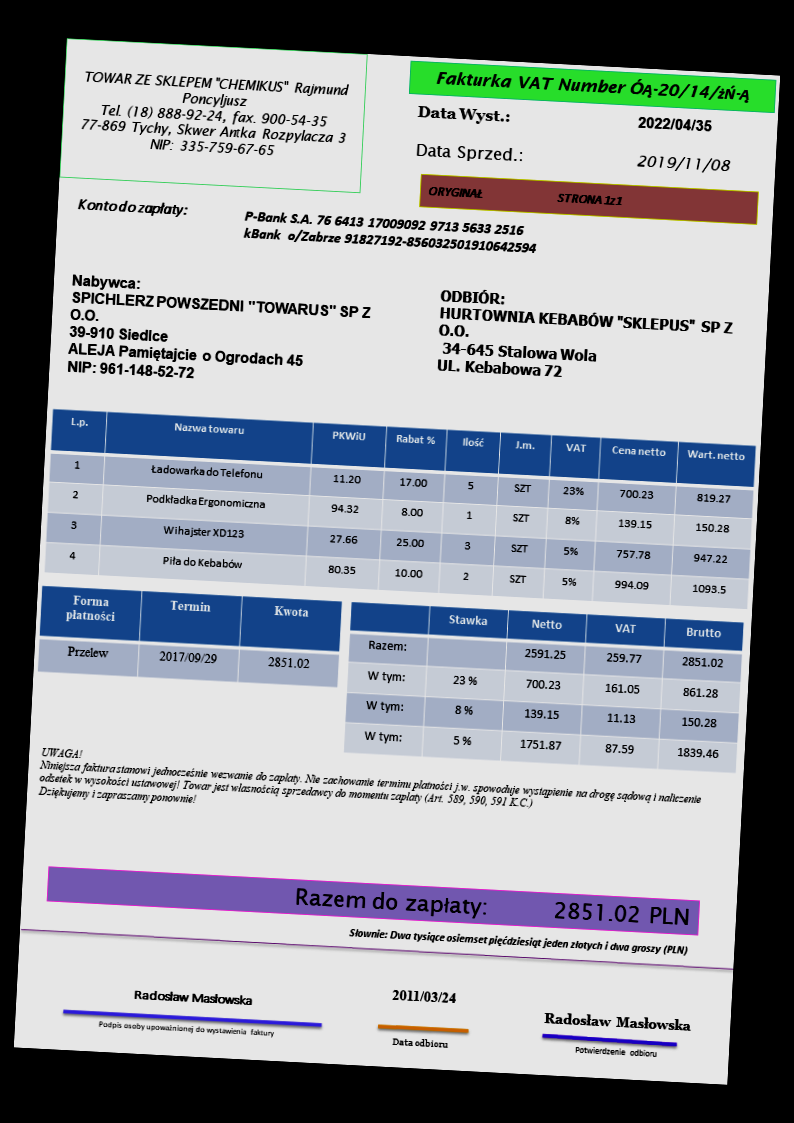Table: (42, 405, 757, 609), (340, 598, 745, 774), (37, 585, 342, 688)
TextBox: (38, 742, 707, 835), (63, 269, 376, 392), (432, 285, 739, 390), (74, 63, 354, 165), (292, 883, 692, 932), (239, 206, 543, 259), (431, 66, 754, 107), (346, 923, 692, 960), (423, 181, 627, 212), (96, 1015, 279, 1041), (540, 1008, 692, 1036), (73, 192, 191, 221), (412, 139, 527, 168), (130, 985, 256, 1008), (633, 150, 735, 177), (414, 101, 515, 128), (634, 111, 714, 135), (386, 985, 460, 1008), (573, 1043, 661, 1062), (389, 1033, 451, 1052)
